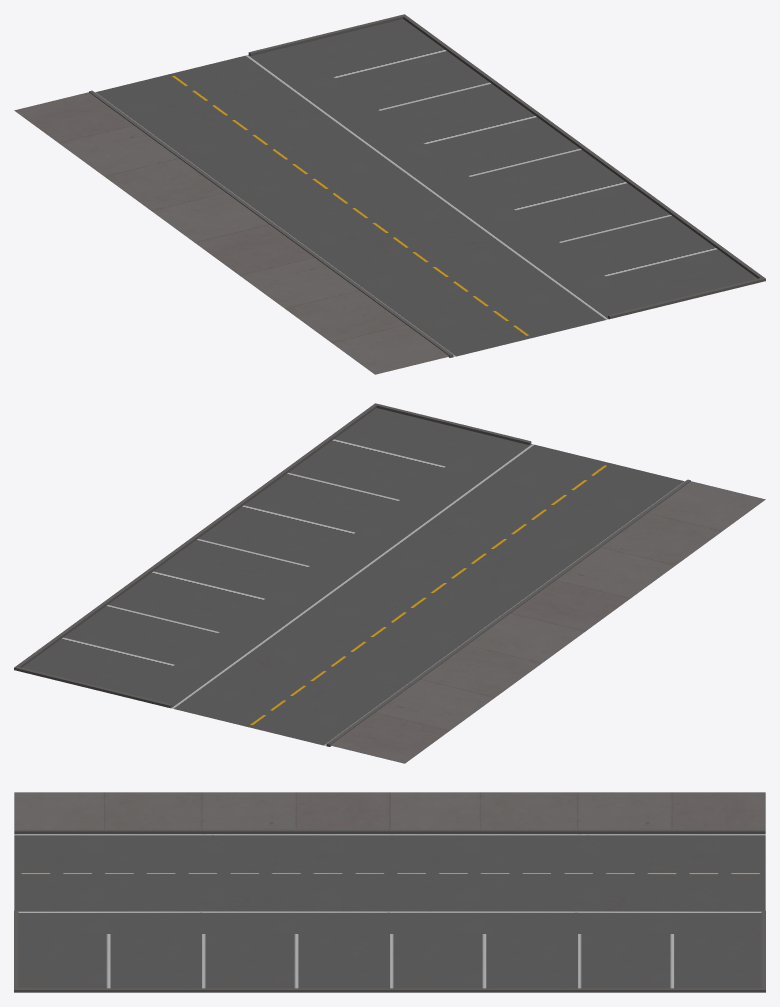
File: SM_Floor_Parking_02.fbx
3 views of the same model, one above another, from view 1: azimuth 30°, elevation 25°; view 2: azimuth 150°, elevation 25°; view 3: azimuth 270°, elevation 25° (orthographic). The views are drawn at different scales.
Parts seen in each view (by area): view 1: SM_Floor_Parking_02; view 2: SM_Floor_Parking_02; view 3: SM_Floor_Parking_02.
Part boxes in pixels (x1=…): SM_Floor_Parking_02: x1=14, y1=14, x2=765, y2=374; SM_Floor_Parking_02: x1=14, y1=403, x2=765, y2=763; SM_Floor_Parking_02: x1=14, y1=792, x2=765, y2=992.
Size of the model in its own units: 12.5 by 0.075 by 20.01.
